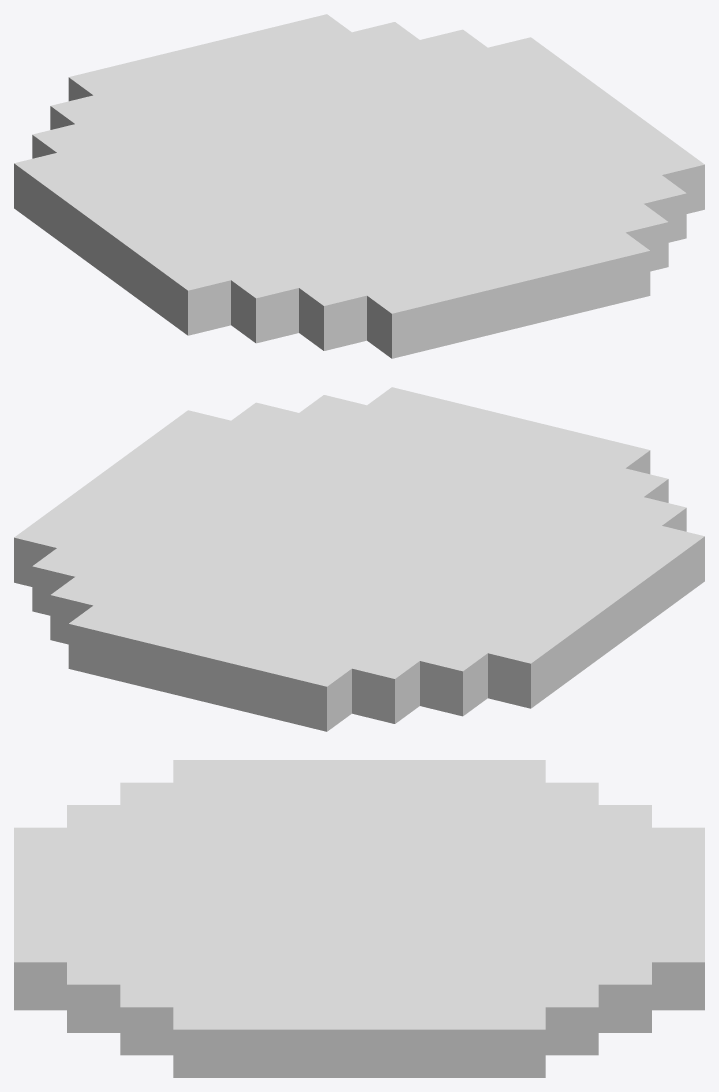
File: Powder_Pao.fbx
3 renders of one model, top to bottom at view 1: azimuth 30°, elevation 25°; view 2: azimuth 150°, elevation 25°; view 3: azimuth 270°, elevation 25°, orthographic. The views are drawn at different scales.
Parts seen in each view (by area): view 1: powder_pao:powder_pao; view 2: powder_pao:powder_pao; view 3: powder_pao:powder_pao.
Part boxes in pixels (x1,y1,x2,y2): powder_pao:powder_pao: (14,14,704,358); powder_pao:powder_pao: (14,387,704,731); powder_pao:powder_pao: (14,760,704,1077).
Bounding box in the file's own units: 12 × 1 × 13.
